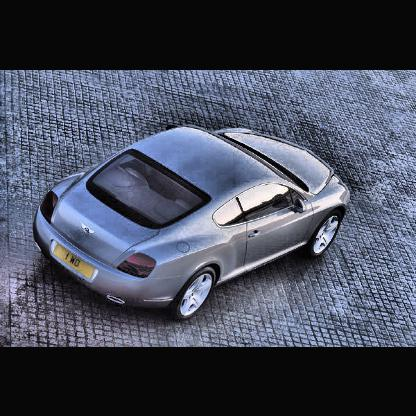Bentley Continental GT Coupe 2007: (31, 122, 354, 327)
